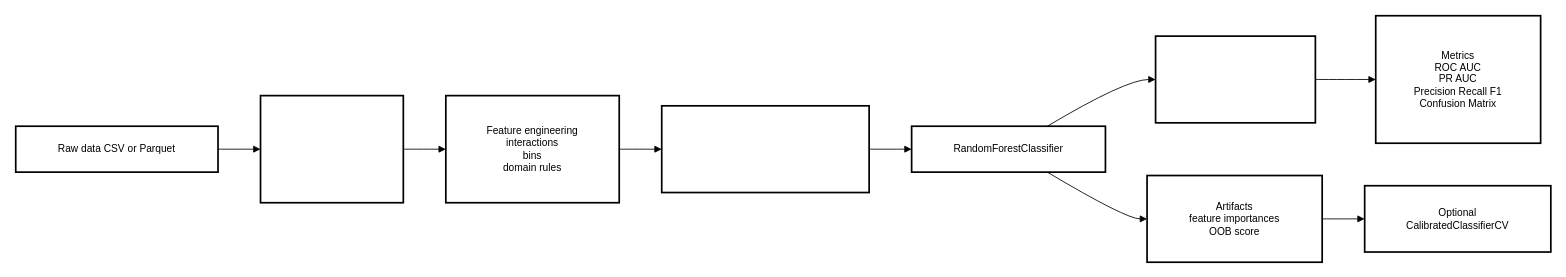
Image size: 1566x277. Some labels were removed from this diagram. The centre of each missing label's shape, as x and y in pixels:
"Cleaning impute missing drop leaks clip outliers" goes at (x=331, y=148).
"Outputs predict_proba threshold to label" goes at (x=1235, y=79).
"Preprocessor OneHotEncode categories passthrough numeric" goes at (x=765, y=149).
